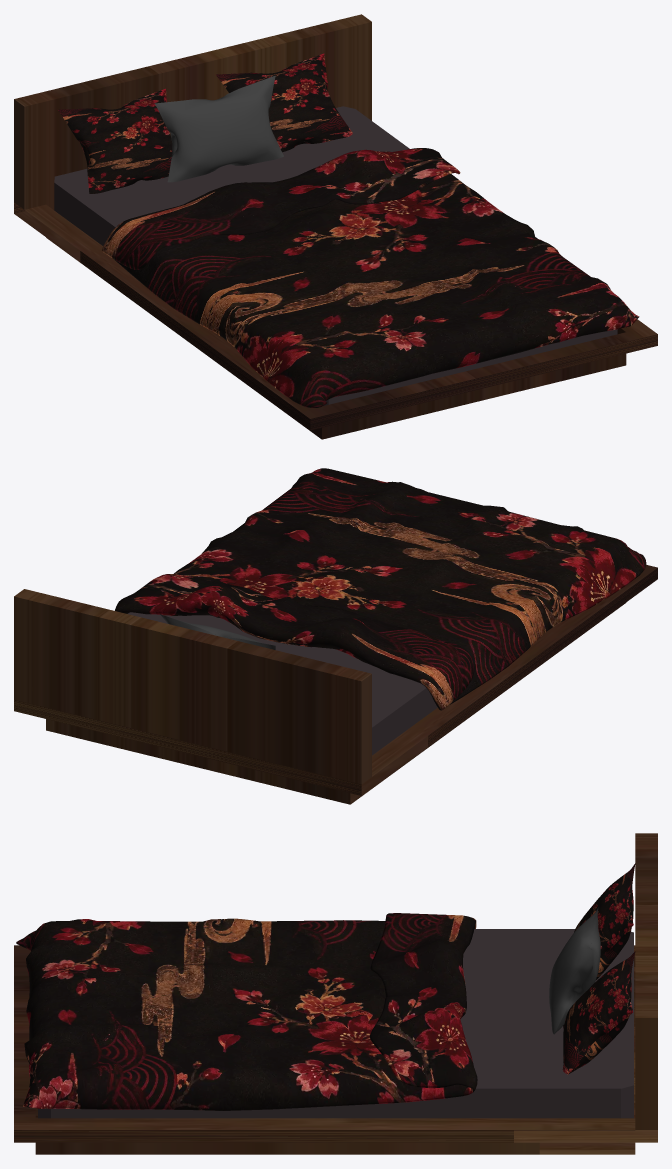
The model's file is bed.glb.
3 views of the same model, one above another, from view 1: azimuth 30°, elevation 25°; view 2: azimuth 150°, elevation 25°; view 3: azimuth 270°, elevation 25° (orthographic). The views are drawn at different scales.
Parts seen in each view (by area): view 1: duvet_Material.004_0, Cube_Material.002_0, Cube.002_Material.003_0, oreiller.001_Material.006_0, oreiller.002_Material.007_0, oreiller_Material.005_0; view 2: duvet_Material.004_0, Cube_Material.002_0, Cube.002_Material.003_0, oreiller.001_Material.006_0; view 3: duvet_Material.004_0, Cube_Material.002_0, Cube.002_Material.003_0, oreiller_Material.005_0, oreiller.001_Material.006_0, oreiller.002_Material.007_0.
Part boxes in pixels (x1,y1,x2,y2): duvet_Material.004_0: [101, 148, 639, 407]; Cube_Material.002_0: [14, 14, 657, 439]; Cube.002_Material.003_0: [54, 106, 617, 405]; oreiller.001_Material.006_0: [155, 75, 283, 182]; oreiller.002_Material.007_0: [58, 88, 172, 193]; oreiller_Material.005_0: [216, 53, 352, 152]; duvet_Material.004_0: [115, 468, 646, 710]; Cube_Material.002_0: [14, 565, 657, 804]; Cube.002_Material.003_0: [127, 612, 437, 755]; oreiller.001_Material.006_0: [160, 614, 275, 649]; duvet_Material.004_0: [16, 913, 477, 1110]; Cube_Material.002_0: [14, 833, 657, 1154]; Cube.002_Material.003_0: [38, 929, 633, 1118]; oreiller_Material.005_0: [562, 951, 635, 1074]; oreiller.001_Material.006_0: [549, 907, 600, 1034]; oreiller.002_Material.007_0: [574, 863, 635, 979].
Size of the model in its own units: 2 by 0.7491 by 2.95.
Materials: 6 (4 with a texture image).
